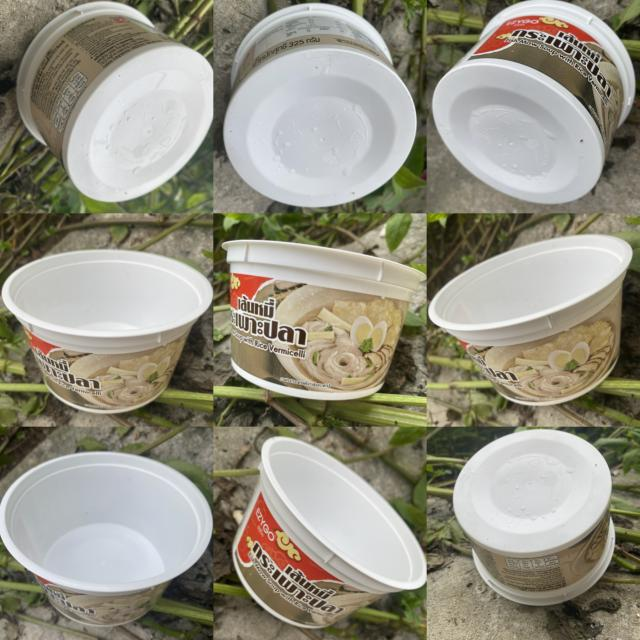Single-Use-Plastic: (432, 0, 635, 203), (16, 1, 212, 201), (224, 4, 416, 207), (232, 436, 426, 628), (0, 451, 212, 626), (429, 235, 632, 405), (2, 250, 212, 413), (222, 240, 425, 400), (454, 429, 615, 605)
